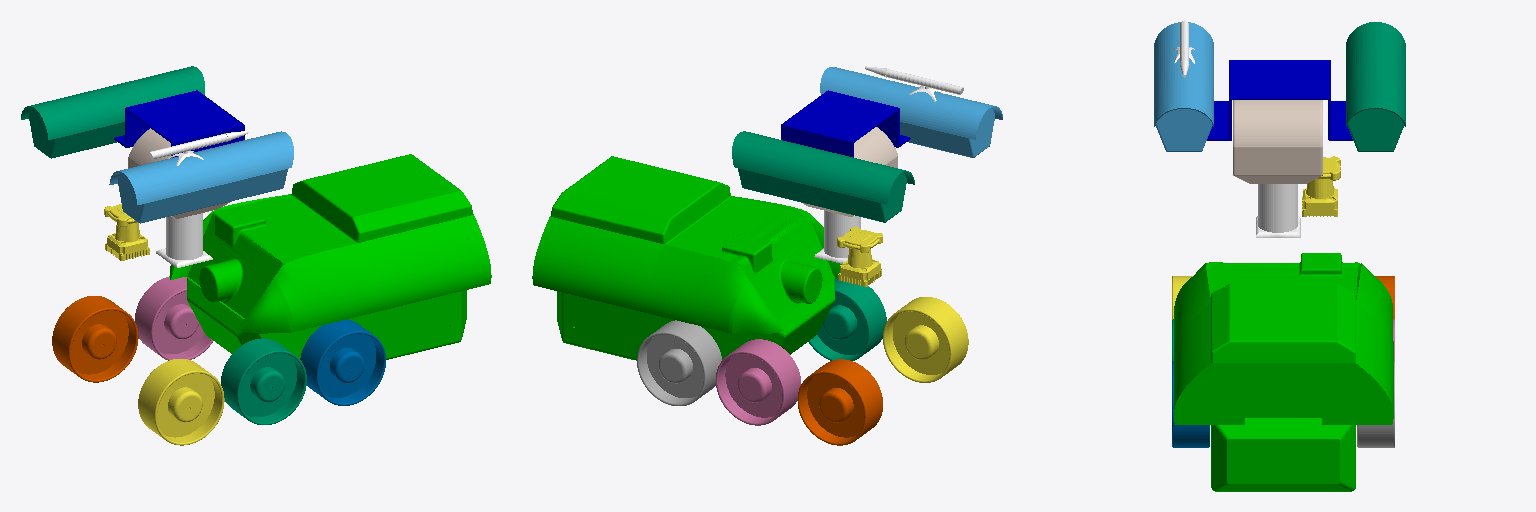
The robot description file, URDF, robot "MRC_Plastun":
<?xml version="1.0" ?>

<robot name="MRC_Plastun">

<link name="base_link"/>
  
  <joint name="base_link_to_chassis" type="fixed">
    <parent link="base_link"/>
    <child link="chassis"/>
  </joint>


  <link name="chassis">
    <inertial>
      <mass value="30"/>
      <origin rpy="0  0  0" xyz="0.32045 -0.00448  0.06272"/>
      <inertia ixx="0.166667" ixy="0" ixz="0" iyy="0.166667" iyz="0" izz="0.166667"/>
    </inertial>
    <collision >
      <origin rpy="0  0  0" xyz="0.32045 0  0.06272"/>
      <geometry>
        <mesh filename="package://plastun_description/meshes/STL_min/chassis.stl" scale="1.0 1.0 1.0"/>
      </geometry>
    </collision>
    <visual >
      <origin rpy="0  0  0" xyz="0.32045 0  0.06272"/>
      <geometry>
        <mesh filename="package://plastun_description/meshes/STL_min/chassis.stl" scale="1 1 1"/>
      </geometry>
      <material name="green"/>
    </visual>
  </link>

  <!-- wheels -->
  <link name="wheel_left_1">
    <inertial>
      <mass value="1"/>
      <origin rpy="0  0  0" xyz="0  0  0"/>
      <inertia ixx="0.166667" ixy="0" ixz="0" iyy="0.166667" iyz="0" izz="0.166667"/>
    </inertial>
    <collision >
      <origin rpy="1.5708  0      0" xyz="0  0  0"/>
      <geometry>
        <cylinder length="0.09" radius="0.096"/>
      </geometry>
    </collision>
    <visual >
      <origin rpy="0  0  0" xyz="0  0  0"/>
      <geometry>
        <mesh filename="package://plastun_description/meshes/STL_min/wheel.stl" scale="1.0 1.0 1.0"/>
      </geometry>
    </visual>
  </link>

  <link name="wheel_left_2">
    <inertial>
      <mass value="1"/>
      <origin rpy="0  0  0" xyz="0  0  0"/>
      <inertia ixx="0.166667" ixy="0" ixz="0" iyy="0.166667" iyz="0" izz="0.166667"/>
    </inertial>
    <collision >
      <origin rpy="1.5708  0      0" xyz="0  0  0"/>
      <geometry>
        <cylinder length="0.09" radius="0.096"/>
      </geometry>
    </collision>
    <visual>
      <origin rpy="0  0  0" xyz="0  0  0"/>
      <geometry>
        <mesh filename="package://plastun_description/meshes/STL_min/wheel.stl" scale="1.0 1.0 1.0"/>
      </geometry>
    </visual>
  </link>

  <link name="wheel_left_3">
    <inertial>
      <mass value="1"/>
      <origin rpy="0  0  0" xyz="0  0  0"/>
      <inertia ixx="0.166667" ixy="0" ixz="0" iyy="0.166667" iyz="0" izz="0.166667"/>
    </inertial>
    <collision>
      <origin rpy="1.5708  0      0" xyz="0  0  0"/>
      <geometry>
        <cylinder length="0.09" radius="0.096"/>
      </geometry>
    </collision>
    <visual >
      <origin rpy="0  0  0" xyz="0  0  0"/>
      <geometry>
        <mesh filename="package://plastun_description/meshes/STL_min/wheel.stl" scale="1.0 1.0 1.0"/>
      </geometry>
    </visual>
  </link>
  <link name="wheel_right_1">
    <inertial>
      <mass value="1"/>
      <origin rpy="0  0  0" xyz="0  0  0"/>
      <inertia ixx="0.166667" ixy="0" ixz="0" iyy="0.166667" iyz="0" izz="0.166667"/>
    </inertial>
    <collision >
      <origin rpy="1.5708  0      0" xyz="0  0  0"/>
      <geometry>
        <cylinder length="0.09" radius="0.096"/>
      </geometry>
    </collision>
    <visual >
      <origin rpy="0  0  0" xyz="0  0  0"/>
      <geometry>
        <mesh filename="package://plastun_description/meshes/STL_min/wheel.stl" scale="1.0 1.0 1.0"/>
      </geometry>
    </visual>
  </link>

  <link name="wheel_right_2">
    <inertial>
      <mass value="1"/>
      <origin rpy="0  0  0" xyz="0  0  0"/>
      <inertia ixx="0.166667" ixy="0" ixz="0" iyy="0.166667" iyz="0" izz="0.166667"/>
    </inertial>
    <collision >
      <origin rpy="1.5708  0      0" xyz="0  0  0"/>
      <geometry>
        <cylinder length="0.09" radius="0.096"/>
      </geometry>
    </collision>
    <visual >
      <origin rpy="0  0  0" xyz="0  0  0"/>
      <geometry>
        <mesh filename="package://plastun_description/meshes/STL_min/wheel.stl" scale="1.0 1.0 1.0"/>
      </geometry>
    </visual>
  </link>

  <link name="wheel_right_3">
    <inertial>
      <mass value="1"/>
      <origin rpy="0  0  0" xyz="0  0  0"/>
      <inertia ixx="0.166667" ixy="0" ixz="0" iyy="0.166667" iyz="0" izz="0.166667"/>
    </inertial>
    <collision >
      <origin rpy="1.5708  0      0" xyz="0  0  0"/>
      <geometry>
        <cylinder length="0.09" radius="0.096"/>
      </geometry>
    </collision>
    <visual >
      <origin rpy="0  0  0" xyz="0  0  0"/>
      <geometry>
        <mesh filename="package://plastun_description/meshes/STL_min/wheel.stl" scale="1.0 1.0 1.0"/>
      </geometry>
    </visual>
  </link>

  <!-- cameras and sensors -->
  <link name="lazer_ukazka">
    <inertial>
      <mass value="0.5"/>
      <origin rpy="0  0  0" xyz="0  0  0"/>
      <inertia ixx="0.166667" ixy="0" ixz="0" iyy="0.166667" iyz="0" izz="0.166667"/>
    </inertial>
    <collision >
      <origin rpy="0  0  0" xyz="0  0  0"/>
      <geometry>
        <mesh filename="package://plastun_description/meshes/STL_min/lazer_ukazka.stl" scale="1.0 1.0 1.0"/>
      </geometry>
    </collision>
    <visual >
      <origin rpy="0  0  0" xyz="0  0  0"/>
      <geometry>
        <mesh filename="package://plastun_description/meshes/STL_min/lazer_ukazka.stl" scale="1.0 1.0 1.0"/>
      </geometry>
      <material name="white"/>
    </visual>
  </link>

  <link name="camera_1">
    <inertial>
      <mass value="0.0290342"/>
      <origin rpy="0  0  0" xyz="0  0  0"/>
      <inertia ixx="0.00034961" ixy="0" ixz="0" iyy="0.00243426" iyz="0" izz="0.0027544"/>
    </inertial>
    <collision >
      <origin rpy="0  0  0" xyz="0  0  0"/>
      <geometry>
        <mesh filename="package://plastun_description/meshes/STL_min/camera.stl" scale="1 1 1"/>
      </geometry>
    </collision>
    <visual >
      <origin rpy="0  0  0" xyz="0  0  0"/>
      <geometry>
        <mesh filename="package://plastun_description/meshes/STL_min/camera.stl" scale="1 1 1"/>
      </geometry>
    </visual>
  </link>

  <link name="camera_2">
    <inertial>
      <mass value="0.00092334"/>
      <origin rpy="0  0  0" xyz="0  0  0"/>
      <inertia ixx="9.8e-07" ixy="0" ixz="0" iyy="2.45e-06" iyz="0" izz="2.95e-06"/>
    </inertial>
    <collision >
      <origin rpy="0  0  0" xyz="0  0  0"/>
      <geometry>
        <mesh filename="package://plastun_description/meshes/STL_min/camera.stl" scale="1 1 1"/>
      </geometry>
    </collision>
    <visual >
      <origin rpy="0  0  0" xyz="0  0  0"/>
      <geometry>
        <mesh filename="package://plastun_description/meshes/STL_min/camera.stl" scale="1 1 1"/>
      </geometry>
    </visual>
  </link>

  <link name="hokuyo">
    <inertial>
      <mass value="0.00014924"/>
      <origin rpy="0  0  0" xyz="0  0  0"/>
      <inertia ixx="2.7e-07" ixy="0" ixz="0" iyy="1.9e-07" iyz="0" izz="8e-08"/>
    </inertial>
    <collision >
      <origin rpy="0  0  0" xyz="0    0    0.05"/>
      <geometry>
        <box size="0.06524 0.079833 0.102579"/>
      </geometry>
    </collision>
    <visual >
      <origin rpy="0  0  0" xyz="0  0  0"/>
      <geometry>
        <mesh filename="package://plastun_description/meshes/STL_min/hokuyo.stl" scale="1 1 1"/>
      </geometry>
    </visual>
  </link>

  <!-- Turrel -->
  <link name="turrel_vniz">
    <inertial>
      <mass value="1"/>
      <origin rpy="0  0  0" xyz="0  0  0"/>
      <inertia ixx="0.166667" ixy="0" ixz="0" iyy="0.166667" iyz="0" izz="0.166667"/>
    </inertial>
    <collision >
      <origin rpy="0  0  0" xyz="0  0  0"/>
      <geometry>
        <mesh filename="package://plastun_description/meshes/STL_min/turrel_vniz.stl" scale="1.0 1.0 1.0"/>
      </geometry>
    </collision>
    <visual >
      <origin rpy="0  0  0" xyz="0  0  0"/>
      <geometry>
        <mesh filename="package://plastun_description/meshes/STL_min/turrel_vniz.stl" scale="1.0 1.0 1.0"/>
      </geometry>
      <material name="white"/>
    </visual>
  </link>

  <link name="turrel_sered">
    <inertial>
      <mass value="1"/>
      <origin rpy="0  0  0" xyz="0  0  0"/>
      <inertia ixx="0.166667" ixy="0" ixz="0" iyy="0.166667" iyz="0" izz="0.166667"/>
    </inertial>
    <collision >
      <origin rpy="0  0  0" xyz="0  0  0"/>
      <geometry>
        <mesh filename="package://plastun_description/meshes/STL_min/turrel_sered.stl" scale="1.0 1.0 1.0"/>
      </geometry>
    </collision>
    <visual >
      <origin rpy="0  0  0" xyz="0  0  0"/>
      <geometry>
        <mesh filename="package://plastun_description/meshes/STL_min/turrel_sered.stl" scale="1.0 1.0 1.0"/>
      </geometry>
      <material name="brown"/>
    </visual>
  </link>

  <link name="turrel_vverh">
    <inertial>
      <mass value="1"/>
      <origin rpy="0  0  0" xyz="0    0   0"/>
      <inertia ixx="0.166667" ixy="0" ixz="0" iyy="0.166667" iyz="0" izz="0.166667"/>
    </inertial>
    <collision >
      <origin rpy="0  0  0" xyz="0    0   0"/>
      <geometry>
        <mesh filename="package://plastun_description/meshes/STL_min/turrel_vverh.stl" scale="1.0 1.0 1.0"/>
      </geometry>
    </collision>
    <visual >
      <origin rpy="0  0  0" xyz="0    0   0"/>
      <geometry>
        <mesh filename="package://plastun_description/meshes/STL_min/turrel_vverh.stl" scale="1.0 1.0 1.0"/>
      </geometry>
      <material name="blue"/>
    </visual>
  </link>



  <!-- wheels'es joints -->
  <joint name="wheel_lev_1" type="revolute">
    <parent link="chassis"/>
    <child link="wheel_left_1"/>
    <origin rpy="0       0      0" xyz="0.36566 -0.20499   0.15237"/>
    <axis xyz="0 -1  0"/>
    <limit effort="-1" lower="-1e+50" upper="1e+50" velocity="100"/>
  </joint>

  <joint name="wheel_lev_2" type="revolute">
    <parent link="chassis"/>
    <child link="wheel_left_2"/>
    <origin rpy="0       0      0" xyz="0.13874 -0.20499  0.15237"/>
    <axis xyz="0 -1  0"/>
    <limit effort="-1" lower="-1e+50" upper="1e+50" velocity="100"/>
  </joint>

  <joint name="wheel_lev_3" type="revolute">
    <parent link="chassis"/>
    <child link="wheel_left_3"/>
    <origin rpy="0       0      0" xyz="0.58393 -0.20499  0.15237"/>
    <axis xyz="0 -1  0"/>
    <limit effort="-1" lower="-1e+50" upper="1e+50" velocity="100"/>
  </joint>

  <joint name="wheel_prav_1" type="revolute">
    <parent link="chassis"/>
    <child link="wheel_right_1"/>
    <origin rpy="0       0      0" xyz="0.13874  0.20499  0.15237"/>
    <axis xyz="0 -1  0"/>
    <limit effort="-1" lower="-1e+50" upper="1e+50" velocity="100"/>
  </joint>

  <joint name="wheel_prav_2" type="revolute">
    <parent link="chassis"/>
    <child link="wheel_right_2"/>
    <origin rpy="0       0      0" xyz="0.36566  0.20499  0.15237"/>
    <axis xyz="0 -1  0"/>
    <limit effort="-1" lower="-1e+50" upper="1e+50" velocity="100"/>
  </joint>

  <joint name="wheel_prav_3" type="revolute">
    <parent link="chassis"/>
    <child link="wheel_right_3"/>
    <origin rpy="0  0  0" xyz="0.58393  0.20499  0.15237"/>
    <axis xyz="0 -1  0"/>
    <limit effort="-1" lower="-1e+50" upper="1e+50" velocity="100"/>
  </joint>

  <!--fix'es joints -->
  <joint name="camera_1 _ lazer_ukazka fixed" type="revolute">
    <parent link="camera_1"/>
    <child link="lazer_ukazka"/>
    <origin rpy="0       0      0" xyz="-0.04766  0.00111  0.10548"/>
    <axis xyz="0  0  0"/>
    <limit effort="0" lower="0" upper="0" velocity="0"/>
  </joint>

  <joint name="turrel_vverh _ camera_1 fixed" type="revolute">
    <parent link="turrel_vverh"/>
    <child link="camera_1"/>
    <origin rpy="0       0       0" xyz="-0.07152 -0.21215 -0.017"/>
    <axis xyz="0  0  0"/>
    <limit effort="0" lower="0" upper="0" velocity="0"/>
  </joint>

  <joint name="turrel_vverh _ camera_2 fixed" type="revolute">
    <parent link="turrel_vverh"/>
    <child link="camera_2"/>
    <origin rpy="0       0       0" xyz="-0.07152  0.21176 -0.017"/>
    <axis xyz="0  0  0"/>
    <limit effort="0" lower="0" upper="0" velocity="0"/>
  </joint>

  <joint name="chassis _ turrel_vniz fixed" type="fixed">
    <parent link="chassis"/>
    <child link="turrel_vniz"/>
    <origin rpy="0 0  0" xyz="0.25857 -0.01238  0.42994"/>
    <axis xyz="0  0  0"/>
    <limit effort="0" lower="0" upper="0" velocity="0"/>
  </joint>

  <joint name="chassis _ hokuyo fixed" type="revolute">
    <parent link="chassis"/>
    <child link="hokuyo"/>
    <origin rpy="0       0       0" xyz="0.15582  0.0808   0.42783"/>
    <axis xyz="0  0  0"/>
    <limit effort="0" lower="0" upper="0" velocity="0"/>
  </joint>

  <!-- revolute joints -->  
  <joint name="turrel_vniz _ turrel_sered revolute" type="revolute">
    <parent link="turrel_vniz"/>
    <child link="turrel_sered"/>
    <origin rpy="0  0   0" xyz="0.00045 -0.00033  0.13474"/>
    <axis xyz="0  0  1"/>
    <limit effort="2" lower="-5" upper="5" velocity="100"/>
  </joint>

  <joint name="turrel_sered _ turrel_vverh up-to-down" type="fixed">
    <parent link="turrel_sered"/>
    <child link="turrel_vverh"/>
    <origin rpy="0   0   0" xyz="0.00306  0.00468  0.12878"/>
    <axis xyz="0  1  0"/>
    <limit effort="1" lower="-1" upper="1" velocity="100"/>
  </joint>

  <!-- plugins -->
  <gazebo>
    <plugin filename="libgazebo_ros_control.so" name="gazebo_ros_control">
      <robotNamespace>/plastun</robotNamespace>
    </plugin>
  </gazebo>



  <!-- sensors -->
  <gazebo reference="camera_1">
    <sensor name='camera_with_laser' type='camera'>
      <pose>-0.14 0 0.06 0 0.000000 3.1416</pose>
      <camera name='__default__'>
        <horizontal_fov>1.012300</horizontal_fov>
        <image>
          <width>320</width>
          <height>200</height>
        </image>
        <clip>
          <near>0.001000</near>
          <far>100.000000</far>
        </clip>
      </camera>
      <always_on>1</always_on>
      <update_rate>30.000000</update_rate>
      <visualize>true</visualize>
      <plugin name="camera_with_laser_controller" filename="libgazebo_ros_camera.so">
        <alwaysOn>true</alwaysOn>
        <updateRate>30</updateRate>
        <cameraName>camera_1</cameraName>
        <robotNamespace>plastun</robotNamespace>
        <imageTopicName>image_raw_1</imageTopicName>
        <cameraInfoTopicName>camera_info_1</cameraInfoTopicName>
        <frameName>camera_link</frameName>
        <hackBaseline>0.07</hackBaseline>
        <distortionK1>0.0</distortionK1>
        <distortionK2>0.0</distortionK2>
        <distortionK3>0.0</distortionK3>
        <distortionT1>0.0</distortionT1>
        <distortionT2>0.0</distortionT2>
      </plugin>        
    </sensor>
  </gazebo>

  <gazebo reference="camera_2">
    <sensor name='camera_without_laser' type='camera'>
      <pose>-0.14 0 0.06 0 0.000000 3.1416</pose>
      <camera name='__default__'>
        <horizontal_fov>1.012300</horizontal_fov>
        <image>
          <width>320</width>
          <height>200</height>
        </image>
        <clip>
          <near>0.001000</near>
          <far>100.000000</far>
        </clip>
      </camera>
      <always_on>1</always_on>
      <update_rate>30.000000</update_rate>
      <visualize>false</visualize>
      <plugin name="camera_without_laser_controller" filename="libgazebo_ros_camera.so">
        <alwaysOn>true</alwaysOn>
        <updateRate>30</updateRate>
        <cameraName>camera_2</cameraName>
        <imageTopicName>image_raw_2</imageTopicName>
        <robotNamespace>plastun</robotNamespace>
        <cameraInfoTopicName>camera_info_2</cameraInfoTopicName>
        <frameName>camera_link</frameName>
        <hackBaseline>0.07</hackBaseline>
        <distortionK1>0.0</distortionK1>
        <distortionK2>0.0</distortionK2>
        <distortionK3>0.0</distortionK3>
        <distortionT1>0.0</distortionT1>
        <distortionT2>0.0</distortionT2>
      </plugin>        
    </sensor>
  </gazebo>

  <gazebo reference="hokuyo">
    <sensor type="gpu_ray" name="hokuyo_sensor">
      <pose>0 0 0.1 0 0 3.1416</pose>
      <visualize>true</visualize>
      <update_rate>40</update_rate>
      <ray>
        <scan>
          <horizontal>
            <samples>720</samples>
            <resolution>1</resolution>
            <min_angle>-1.470796</min_angle>
            <max_angle>1.470796</max_angle>
          </horizontal>
        </scan>
        <range>
          <min>0.10</min>
          <max>15.0</max>
          <resolution>0.01</resolution>
        </range>
        <noise>
          <type>gaussian</type>
          <!-- Noise parameters based on published spec for Hokuyo laser
               achieving "+-30mm" accuracy at range < 10m.  A mean of 0.0m and
               stddev of 0.01m will put 99.7% of samples within 0.03m of the true
               reading. -->
               <mean>0.0</mean>
               <stddev>0.01</stddev>
           </noise>
       </ray>
       <plugin name="gazebo_ros_hokuyo_sensor" filename="libgazebo_ros_gpu_laser.so">
        <robotNamespace>plastun</robotNamespace>
        <topicName>laser/scan</topicName>
        <frameName>hokuyo_link</frameName>
       </plugin>
   </sensor>
</gazebo>

<gazebo reference="lazer_ukazka">
  <sensor type="gpu_ray" name="hokuyo_laser_ukaz">
    <pose>-0.1 0 0.05 0 0 3.1416</pose>
    <visualize>true</visualize>
    <update_rate>40</update_rate>
    <ray>
      <scan>
        <horizontal>
          <samples>6</samples>
            <resolution>1</resolution>
            <min_angle>-0.005</min_angle>
            <max_angle>0.005</max_angle>
        </horizontal>
      </scan>
      <range>
        <min>0.10</min>
        <max>10.0</max>
        <resolution>0.01</resolution>
      </range>
      <noise>
        <type>gaussian</type>
          <!-- Noise parameters based on published spec for Hokuyo laser
               achieving "+-30mm" accuracy at range < 10m.  A mean of 0.0m and
               stddev of 0.01m will put 99.7% of samples within 0.03m of the true
               reading. -->
               <mean>0.0</mean>
               <stddev>0.01</stddev>
           </noise>
       </ray>
       <plugin name="gazebo_ros_hokuyo_laser_ukaz" filename="libgazebo_ros_gpu_laser.so">
        <robotNamespace>plastun</robotNamespace>
        <topicName>laser/scan_ukaz</topicName>
        <frameName>ukaz_link</frameName>
       </plugin>
   </sensor>
</gazebo>

<gazebo>
  <plugin name="skid_steer_drive_controller" filename="libgazebo_ros_skid_steer_drive.so">
    <updateRate>100.0</updateRate>
    <robotNamespace>plastun</robotNamespace>
    <leftFrontJoint>wheel_lev_1</leftFrontJoint>
    <rightFrontJoint>wheel_prav_1</rightFrontJoint>
    <leftRearJoint>wheel_lev_3</leftRearJoint>
    <rightRearJoint>wheel_prav_3</rightRearJoint>
    <wheelSeparation>0.4</wheelSeparation>
    <wheelDiameter>0.192</wheelDiameter>
    <robotBaseFrame>chassis</robotBaseFrame>
    <torque>20</torque>
    <commandTopic>cmd_vel</commandTopic>
    <odometryTopic>odom</odometryTopic>
    <odometryFrame>odom</odometryFrame>
    <broadcastTF>true</broadcastTF>
    <covariance_x>0.000100</covariance_x>
    <covariance_y>0.000100</covariance_y>
    <covariance_yaw>0.000100</covariance_yaw>
  </plugin>
</gazebo>


<!-- Import Rviz colors -->
<material name="black">
  <color rgba="0.0 0.0 0.0 1.0"/>
</material>
<material name="blue">
  <color rgba="0.0 0.0 0.8 1.0"/>
</material>
<material name="green">
  <color rgba="0.0 0.8 0.0 1.0"/>
</material>
<material name="grey">
  <color rgba="0.2 0.2 0.2 1.0"/>
</material>
<material name="orange">
  <color rgba="1.0 0.423529411765 0.0392156862745 1.0"/>
</material>
<material name="brown">
  <color rgba="0.870588235294 0.811764705882 0.764705882353 1.0"/>
</material>
<material name="red">
  <color rgba="0.8 0.0 0.0 1.0"/>
</material>
<material name="white">
  <color rgba="1.0 1.0 1.0 1.0"/>
</material>

<!--Import Gazebo colors -->
<gazebo reference="chassis">
  <material>Gazebo/Grey</material>
</gazebo>

<gazebo reference="turrel_vniz">
  <material>Gazebo/Grey</material>
</gazebo>

<gazebo reference="turrel_sered">
  <material>Gazebo/Grey</material>
</gazebo>

<gazebo reference="turrel_vverh">
  <material>Gazebo/Grey</material>
</gazebo>

<gazebo reference="hokuyo">
  <material>Gazebo/Grey</material>
</gazebo>

<gazebo reference="camera_1">
  <material>Gazebo/Grey</material>
</gazebo>

<gazebo reference="camera_2">
  <material>Gazebo/Grey</material>
</gazebo>


</robot>

--- Facts derived from the render (not from the file) ---
The picture shows the robot from 3 angles, left to right: view 1: azimuth 30°, elevation 25°; view 2: azimuth 150°, elevation 25°; view 3: azimuth 270°, elevation 25°; orthographic projection.
Robot: MRC_Plastun — 15 links, 14 joints (11 revolute, 3 fixed); root link base_link; default pose: every joint at zero.
Visible links, largest first — view 1: chassis, camera_1, camera_2, wheel_right_1, wheel_left_2, wheel_left_1, wheel_left_3, turrel_vverh, wheel_right_2, turrel_vniz, hokuyo, turrel_sered (+1 smaller); view 2: chassis, camera_2, camera_1, wheel_right_1, wheel_left_2, wheel_right_2, wheel_right_3, turrel_vverh, wheel_left_1, hokuyo, turrel_sered, turrel_vniz (+1 smaller); view 3: chassis, turrel_sered, camera_2, camera_1, turrel_vverh, turrel_vniz, hokuyo, wheel_left_3, wheel_right_3, lazer_ukazka.
Link boxes in pixels (x1=…): chassis: x1=170, y1=154, x2=491, y2=359; camera_1: x1=109, y1=131, x2=293, y2=223; camera_2: x1=21, y1=66, x2=204, y2=158; wheel_right_1: x1=52, y1=296, x2=138, y2=382; wheel_left_2: x1=138, y1=359, x2=224, y2=445; wheel_left_1: x1=221, y1=338, x2=306, y2=424; wheel_left_3: x1=300, y1=319, x2=385, y2=405; turrel_vverh: x1=114, y1=90, x2=244, y2=157; wheel_right_2: x1=135, y1=276, x2=212, y2=360; turrel_vniz: x1=156, y1=213, x2=212, y2=267; hokuyo: x1=104, y1=204, x2=149, y2=260; turrel_sered: x1=128, y1=128, x2=231, y2=218; chassis: x1=532, y1=156, x2=841, y2=360; camera_2: x1=732, y1=131, x2=914, y2=222; camera_1: x1=820, y1=67, x2=1002, y2=157; wheel_right_1: x1=797, y1=359, x2=882, y2=445; wheel_left_2: x1=883, y1=297, x2=968, y2=382; wheel_right_2: x1=716, y1=339, x2=800, y2=425; wheel_right_3: x1=637, y1=320, x2=721, y2=405; turrel_vverh: x1=781, y1=90, x2=910, y2=157; wheel_left_1: x1=808, y1=278, x2=886, y2=360; hokuyo: x1=837, y1=227, x2=882, y2=286; turrel_sered: x1=803, y1=127, x2=897, y2=216; turrel_vniz: x1=814, y1=211, x2=860, y2=263; chassis: x1=1174, y1=253, x2=1393, y2=491; turrel_sered: x1=1233, y1=100, x2=1322, y2=183; camera_2: x1=1346, y1=22, x2=1405, y2=151; camera_1: x1=1154, y1=22, x2=1213, y2=151; turrel_vverh: x1=1207, y1=60, x2=1352, y2=140; turrel_vniz: x1=1256, y1=184, x2=1300, y2=237; hokuyo: x1=1302, y1=156, x2=1340, y2=216; wheel_left_3: x1=1172, y1=361, x2=1209, y2=447; wheel_right_3: x1=1357, y1=361, x2=1394, y2=447; lazer_ukazka: x1=1174, y1=20, x2=1194, y2=77.
Bounding box of the posed robot: 0.9999 × 0.5578 × 0.7816 m (x, y, z).
Meshes: 8 distinct files referenced, 14 mesh visuals loaded (8 binary STL).
